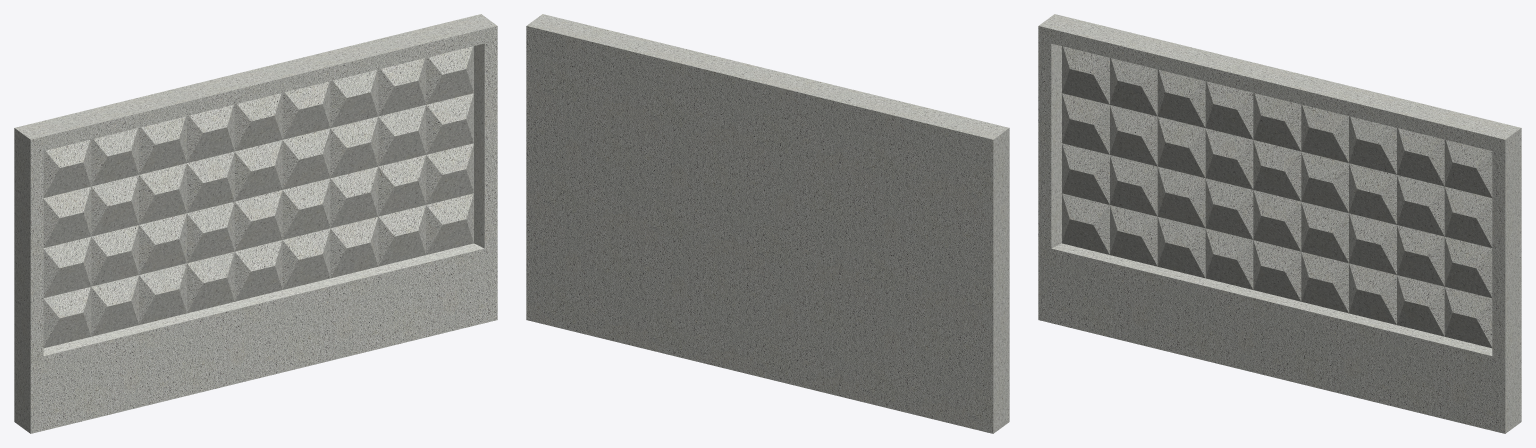
File: WallUSSRWhole.fbx
3 renders of one model, left to right at view 1: azimuth 30°, elevation 25°; view 2: azimuth 150°, elevation 25°; view 3: azimuth 330°, elevation 25°, orthographic.
Parts seen in each view (by area): view 1: Куб; view 2: Куб; view 3: Куб.
Part boxes in pixels (bbox=[...]): Куб: bbox=[14, 14, 497, 433]; Куб: bbox=[526, 14, 1009, 433]; Куб: bbox=[1038, 14, 1521, 433].
Size of the model in its own units: 1906 by 1148 by 115.
